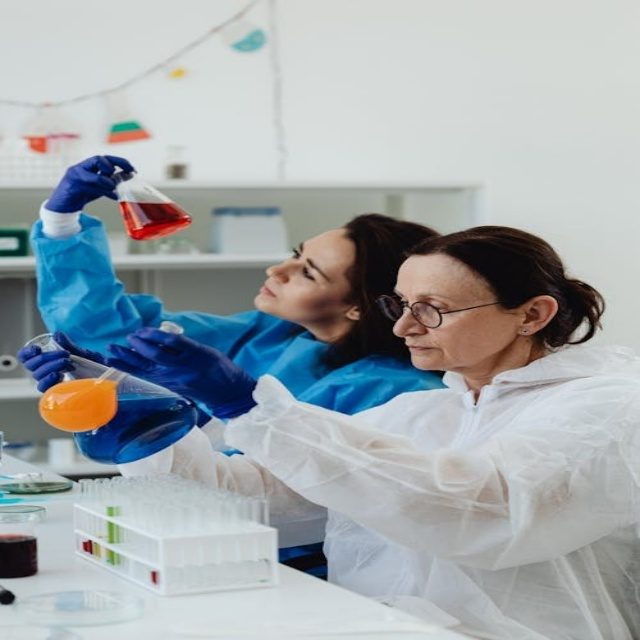Gafas: (374, 294, 508, 328)
Guantes: (104, 325, 262, 422), (42, 154, 136, 218), (16, 338, 79, 394)
Sin_gafas: (282, 236, 324, 286)
Sin_mascara: (403, 338, 457, 366), (252, 279, 292, 314)
